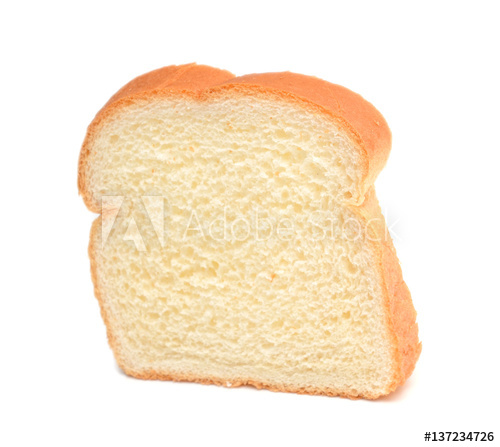slice of bread: (69, 58, 457, 426)
